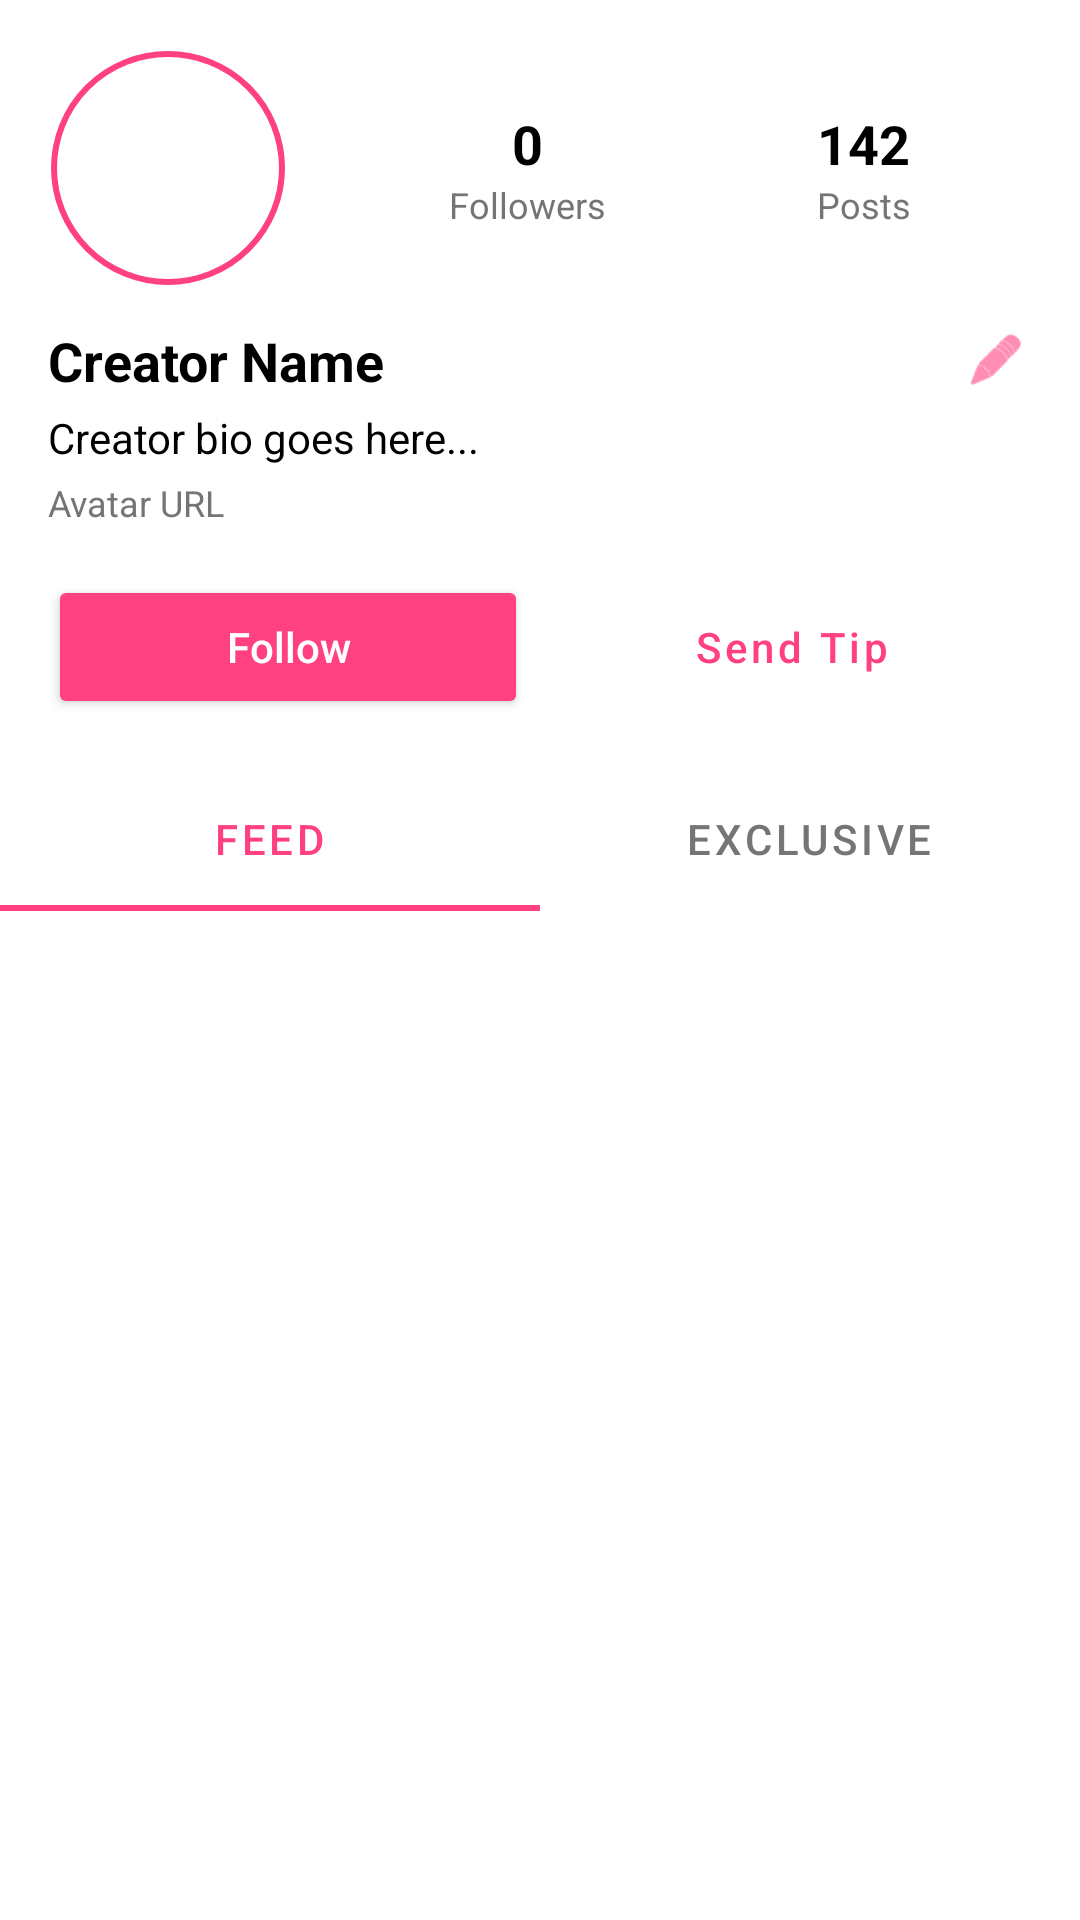

Named icons in this screenshot (1080 x 1920) and their bounding boxes, (x1, y1, x2, y2):
edit: (970, 334, 1021, 385)
